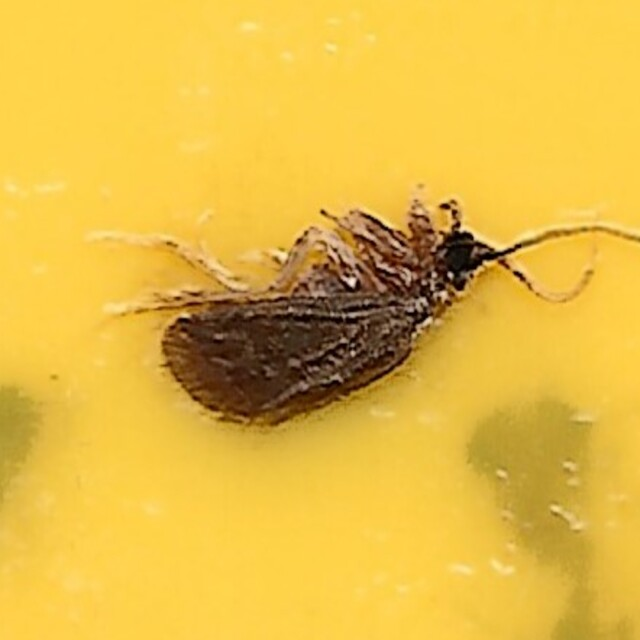Trichoptera: (145, 194, 495, 446)
